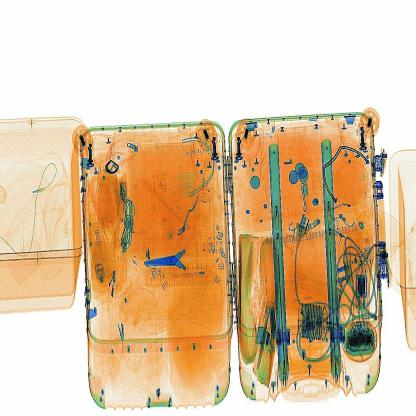gun: (146, 239, 210, 287)
